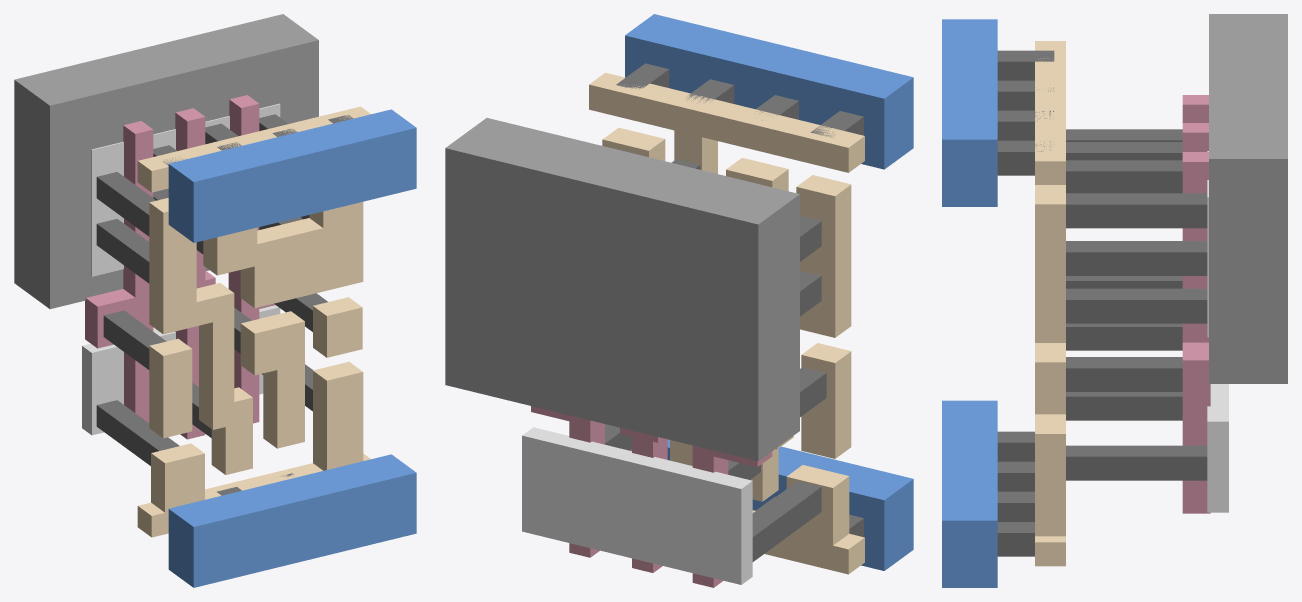
Rendered from sky130_fd_sc_hd__a21oi_1.gds.gltf.
3 views of the same model, side by side, from view 1: azimuth 30°, elevation 25°; view 2: azimuth 150°, elevation 25°; view 3: azimuth 270°, elevation 25° (orthographic). The views are drawn at different scales.
Visible parts, largest first — view 1: sky130_fd_sc_hd__a21oi_1_li1, sky130_fd_sc_hd__a21oi_1_met1, sky130_fd_sc_hd__a21oi_1_nwell, sky130_fd_sc_hd__a21oi_1_licon, sky130_fd_sc_hd__a21oi_1_poly, sky130_fd_sc_hd__a21oi_1_diff, sky130_fd_sc_hd__a21oi_1_mcon; view 2: sky130_fd_sc_hd__a21oi_1_nwell, sky130_fd_sc_hd__a21oi_1_li1, sky130_fd_sc_hd__a21oi_1_met1, sky130_fd_sc_hd__a21oi_1_diff, sky130_fd_sc_hd__a21oi_1_licon, sky130_fd_sc_hd__a21oi_1_poly, sky130_fd_sc_hd__a21oi_1_mcon; view 3: sky130_fd_sc_hd__a21oi_1_licon, sky130_fd_sc_hd__a21oi_1_nwell, sky130_fd_sc_hd__a21oi_1_met1, sky130_fd_sc_hd__a21oi_1_li1, sky130_fd_sc_hd__a21oi_1_mcon, sky130_fd_sc_hd__a21oi_1_poly, sky130_fd_sc_hd__a21oi_1_diff.
Boxes of the visible parts, bbox=[...] form: sky130_fd_sc_hd__a21oi_1_li1: bbox=[137, 106, 370, 537]; sky130_fd_sc_hd__a21oi_1_met1: bbox=[168, 109, 416, 587]; sky130_fd_sc_hd__a21oi_1_nwell: bbox=[14, 14, 318, 308]; sky130_fd_sc_hd__a21oi_1_licon: bbox=[96, 114, 327, 465]; sky130_fd_sc_hd__a21oi_1_poly: bbox=[85, 95, 275, 439]; sky130_fd_sc_hd__a21oi_1_diff: bbox=[82, 103, 280, 435]; sky130_fd_sc_hd__a21oi_1_mcon: bbox=[163, 115, 353, 495]; sky130_fd_sc_hd__a21oi_1_nwell: bbox=[445, 118, 799, 461]; sky130_fd_sc_hd__a21oi_1_li1: bbox=[589, 72, 864, 574]; sky130_fd_sc_hd__a21oi_1_met1: bbox=[625, 14, 913, 570]; sky130_fd_sc_hd__a21oi_1_diff: bbox=[522, 427, 752, 584]; sky130_fd_sc_hd__a21oi_1_licon: bbox=[605, 148, 826, 561]; sky130_fd_sc_hd__a21oi_1_poly: bbox=[531, 406, 772, 587]; sky130_fd_sc_hd__a21oi_1_mcon: bbox=[616, 63, 863, 537]; sky130_fd_sc_hd__a21oi_1_licon: bbox=[1066, 129, 1207, 480]; sky130_fd_sc_hd__a21oi_1_nwell: bbox=[1209, 14, 1287, 383]; sky130_fd_sc_hd__a21oi_1_met1: bbox=[942, 19, 997, 587]; sky130_fd_sc_hd__a21oi_1_li1: bbox=[1035, 41, 1065, 566]; sky130_fd_sc_hd__a21oi_1_mcon: bbox=[997, 50, 1054, 556]; sky130_fd_sc_hd__a21oi_1_poly: bbox=[1182, 95, 1210, 513]; sky130_fd_sc_hd__a21oi_1_diff: bbox=[1207, 151, 1228, 512].
Bounding box in the file's own units: 2.22 × 3.2 × 2.24.
